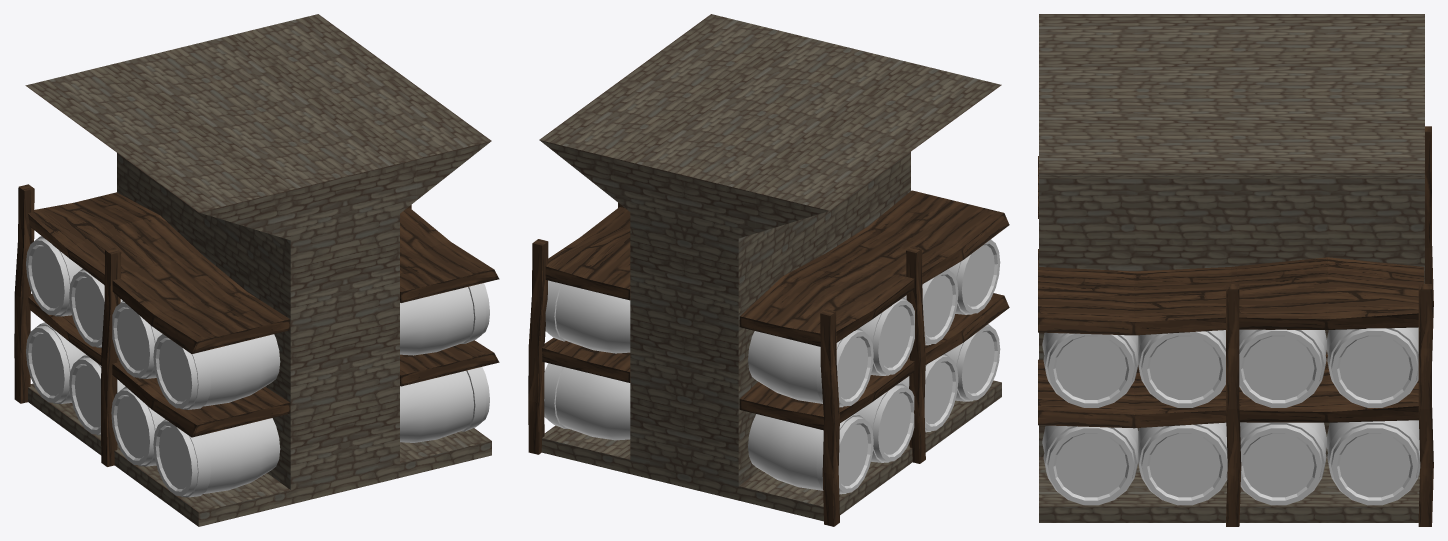
File: WR_Wall_Barrels_Both_Sides.FBX
The picture shows the model from 3 angles, left to right: view 1: azimuth 30°, elevation 25°; view 2: azimuth 150°, elevation 25°; view 3: azimuth 270°, elevation 25°; orthographic projection. The views are drawn at different scales.
Visible parts, largest first — view 1: Box019, Box018, Cylinder015, Cylinder017, Box015, Box017, Cylinder020, Box016, Cylinder022, Cylinder021, Cylinder016, Cylinder018 (+1 smaller); view 2: Box019, Box018, Cylinder020, Cylinder022, Box015, Box017, Cylinder019, Box016, Cylinder018, Cylinder015, Cylinder017, Cylinder021 (+1 smaller); view 3: Box019, Box018, Box015, Cylinder020, Cylinder015, Cylinder019, Cylinder022, Cylinder021, Cylinder018, Cylinder017, Cylinder016, Box017 (+1 smaller).
Part boxes in pixels (x1,y1,x2,y2): Box019: (25, 14, 491, 526); Box018: (28, 192, 499, 353); Cylinder015: (153, 367, 489, 497); Cylinder017: (153, 283, 489, 409); Box015: (28, 293, 499, 437); Box017: (14, 184, 34, 403); Cylinder020: (26, 322, 85, 403); Box016: (101, 205, 411, 466); Cylinder022: (26, 236, 82, 316); Cylinder021: (111, 386, 164, 466); Cylinder016: (112, 301, 162, 378); Cylinder018: (69, 269, 122, 347); Box019: (539, 14, 1001, 521); Box018: (545, 190, 1009, 346); Cylinder020: (544, 363, 873, 494); Cylinder022: (545, 280, 873, 407); Box015: (542, 293, 1009, 430); Box017: (528, 239, 839, 526); Cylinder019: (856, 382, 914, 462); Box016: (618, 202, 925, 463); Cylinder018: (860, 297, 914, 375); Cylinder015: (945, 324, 1000, 401); Cylinder017: (948, 239, 1000, 314); Cylinder021: (900, 354, 958, 432); Box019: (1039, 14, 1424, 522); Box018: (1038, 156, 1424, 335); Box015: (1038, 249, 1418, 428); Cylinder020: (1327, 420, 1420, 505); Cylinder015: (1042, 425, 1138, 505); Cylinder019: (1240, 422, 1326, 505); Cylinder022: (1327, 327, 1418, 407); Cylinder021: (1138, 422, 1227, 505); Cylinder018: (1239, 329, 1326, 407); Cylinder017: (1042, 332, 1138, 407); Cylinder016: (1138, 330, 1225, 407); Box017: (1418, 126, 1433, 526).
Bounding box in the file's own units: 26.02 × 25.4 × 26.04.
